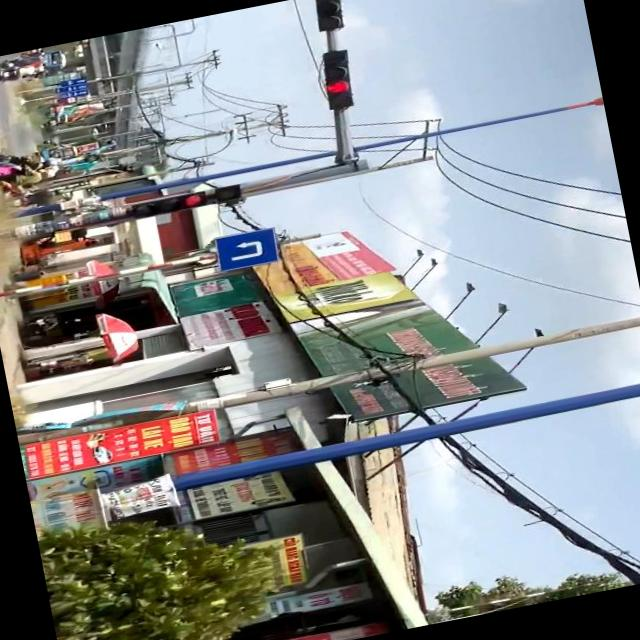I-409: (214, 230, 280, 273)
